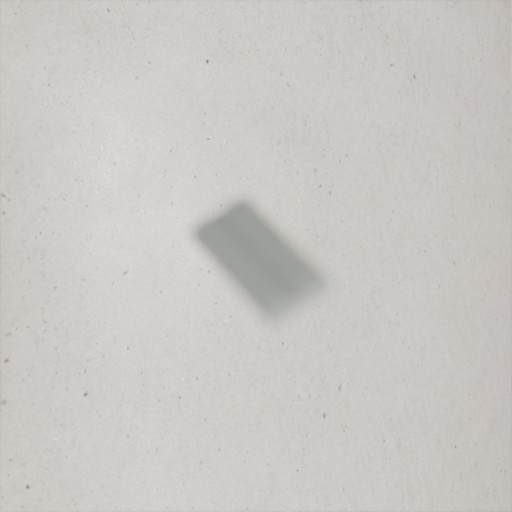lego: (187, 195, 335, 330)
